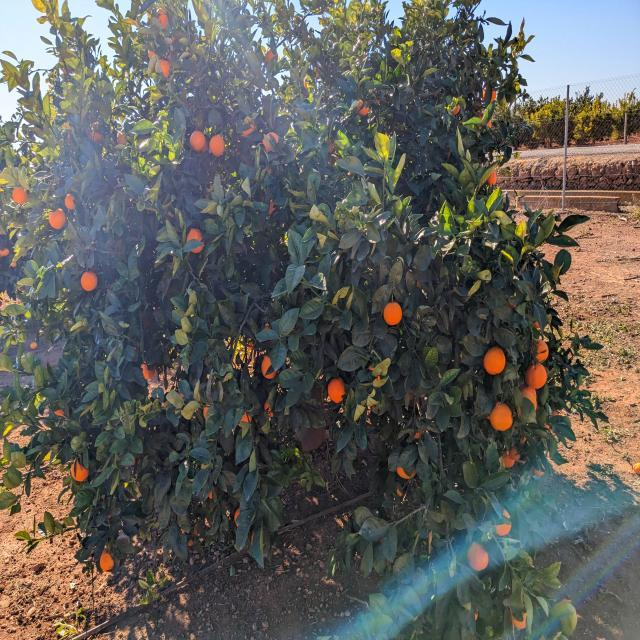Jeruk Sudah Matang: (488, 403, 514, 431), (483, 348, 508, 376), (526, 364, 548, 391), (384, 302, 406, 326), (468, 546, 490, 570), (10, 182, 30, 208), (518, 388, 536, 416), (156, 56, 176, 80), (208, 135, 228, 158), (330, 378, 347, 404), (46, 208, 66, 230), (190, 129, 208, 153), (81, 270, 98, 292), (264, 132, 280, 154), (536, 341, 552, 362), (73, 464, 89, 482), (99, 552, 113, 572), (63, 192, 77, 212), (484, 169, 500, 186), (188, 228, 203, 246), (500, 452, 516, 468), (512, 614, 528, 630), (496, 521, 512, 535), (265, 49, 278, 66), (156, 10, 168, 28), (244, 124, 258, 138), (260, 356, 272, 372), (358, 102, 371, 116), (483, 88, 496, 102), (264, 401, 274, 418), (396, 466, 409, 478), (142, 364, 152, 378), (510, 448, 520, 461), (269, 202, 277, 217), (326, 138, 334, 152), (451, 104, 461, 115), (242, 413, 252, 424), (535, 466, 545, 476), (208, 488, 216, 498), (54, 408, 64, 416), (203, 406, 209, 418), (487, 118, 492, 128)
